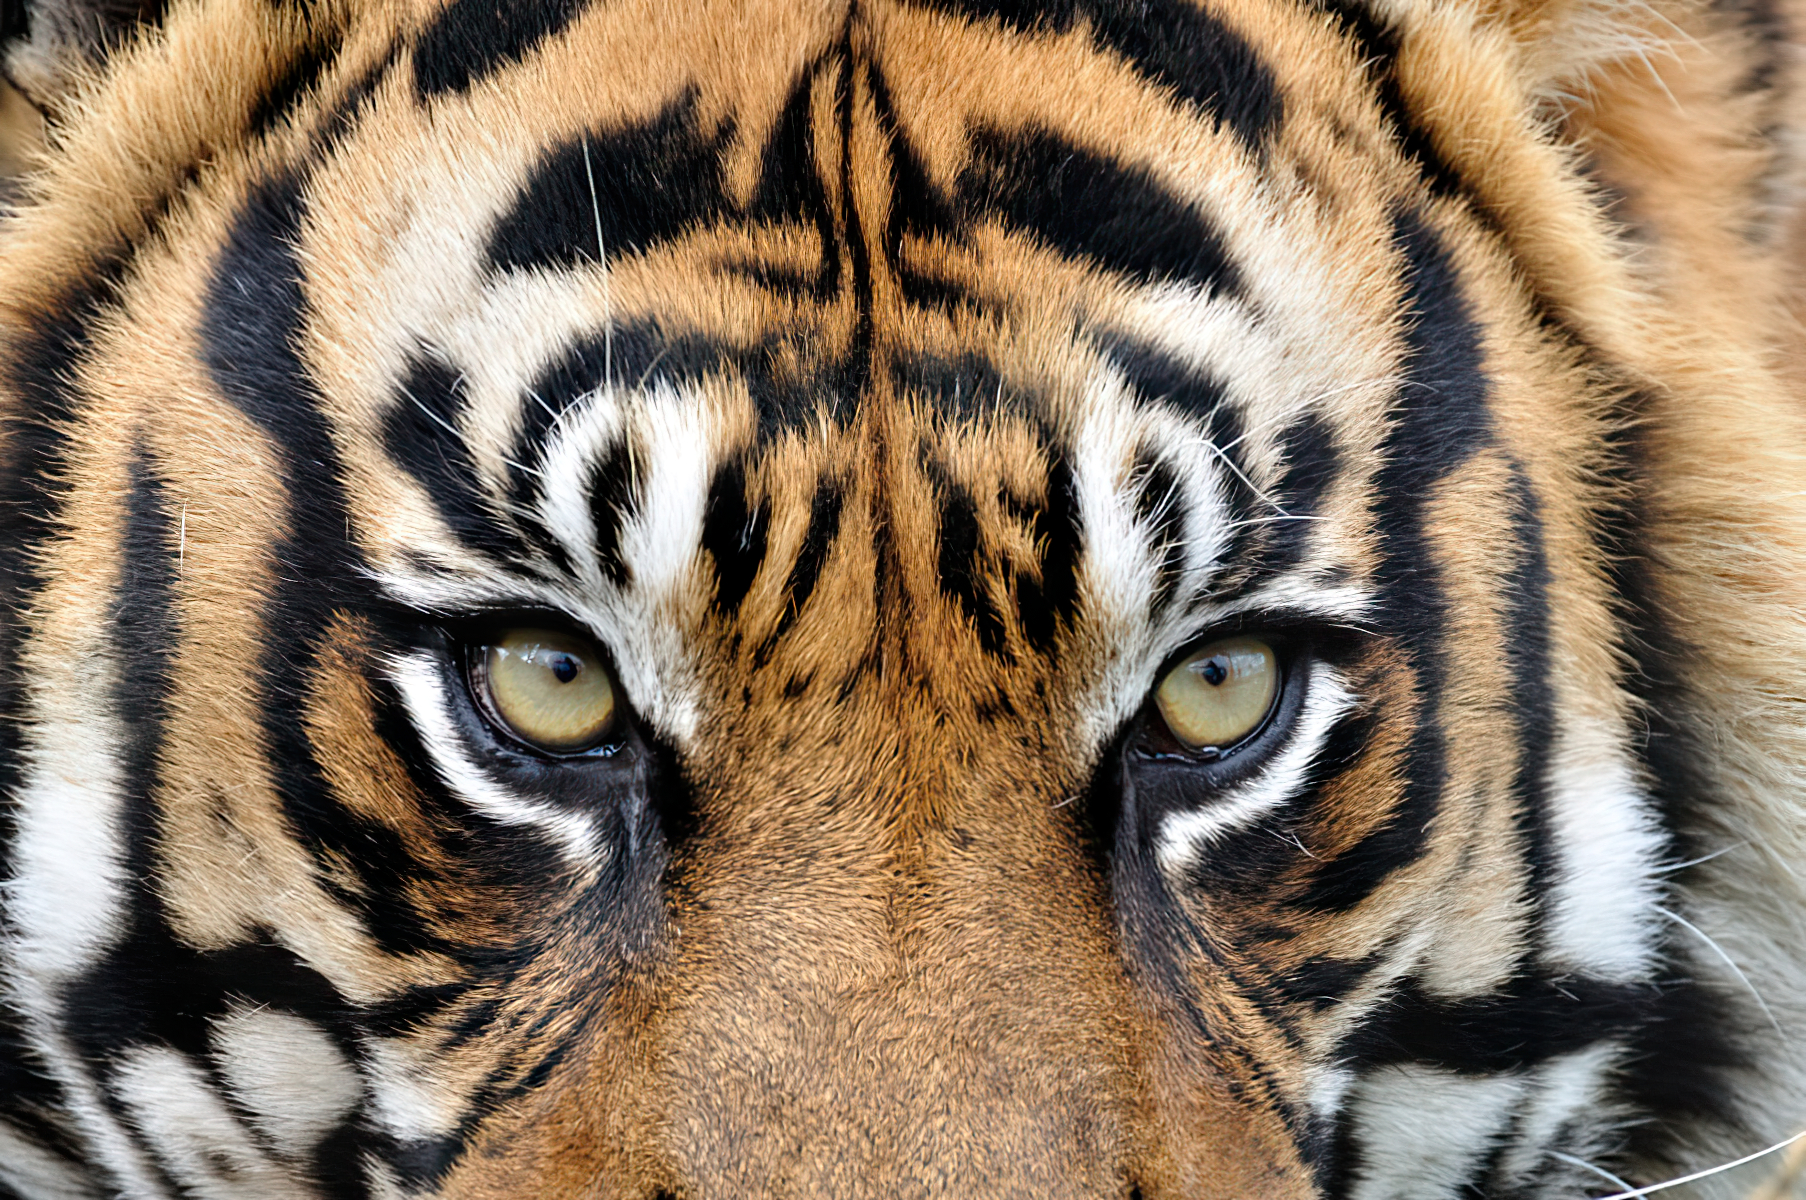tiger: (40, 50, 1702, 1191)
